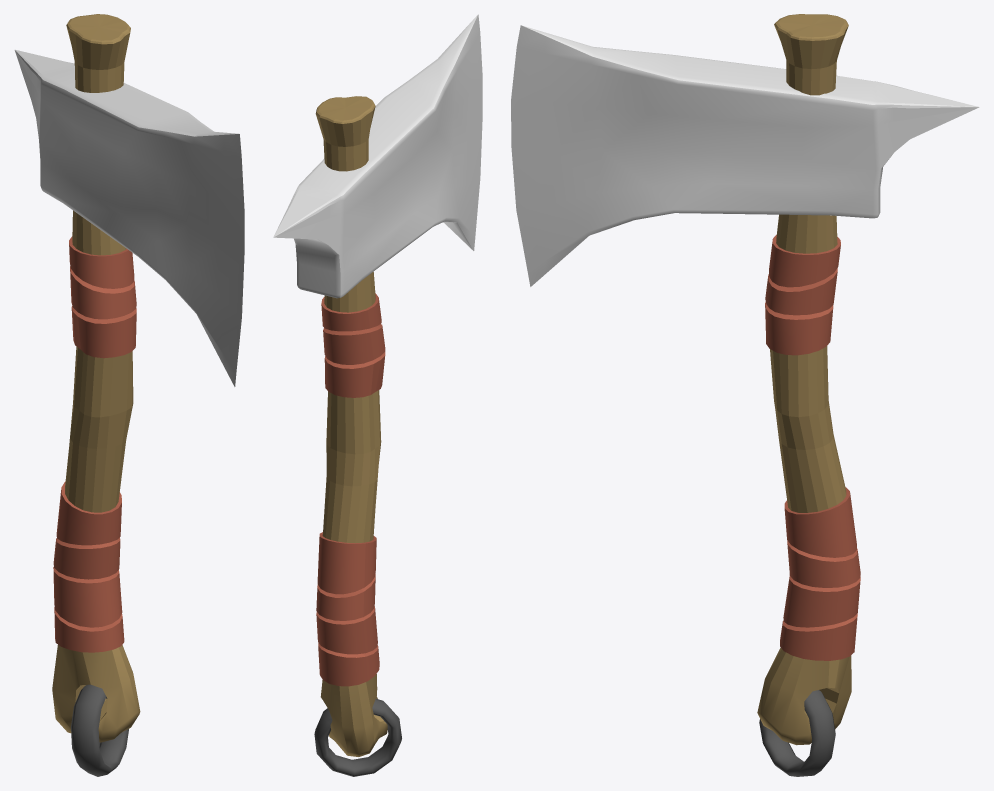
Rendered from Axe_Top.fbx.
3 renders of one model, left to right at view 1: azimuth 30°, elevation 25°; view 2: azimuth 150°, elevation 25°; view 3: azimuth 270°, elevation 25°, orthographic. The views are drawn at different scales.
Visible parts, largest first — view 1: Axe_Top; view 2: Axe_Top; view 3: Axe_Top.
Part boxes in pixels (x1,y1,x2,y2): Axe_Top: [14, 14, 244, 776]; Axe_Top: [273, 14, 482, 776]; Axe_Top: [511, 14, 979, 776].
Bounding box in the file's own units: 7.45 × 72.67 × 41.06.
